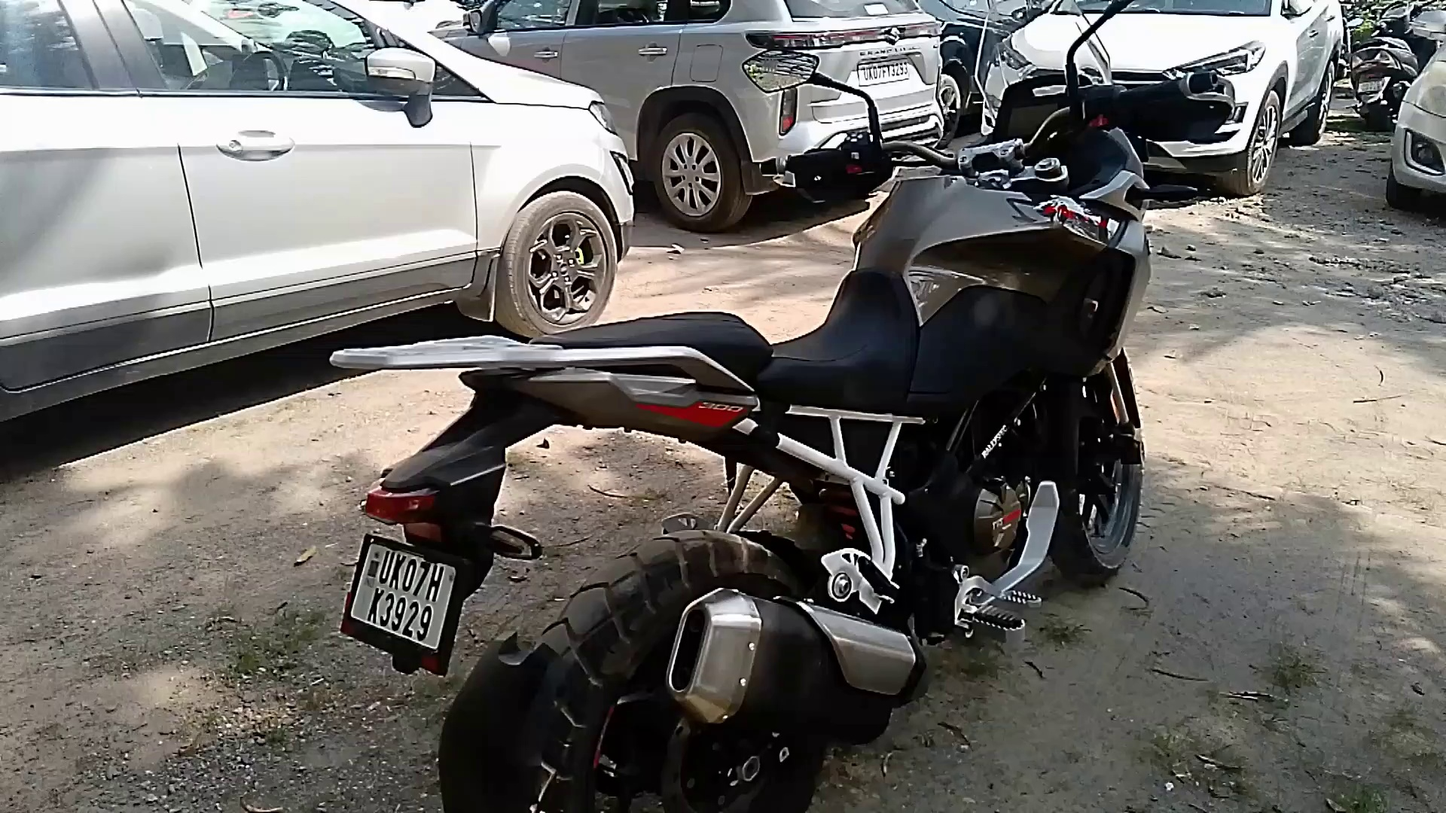bike-engine: (955, 470, 1037, 584)
